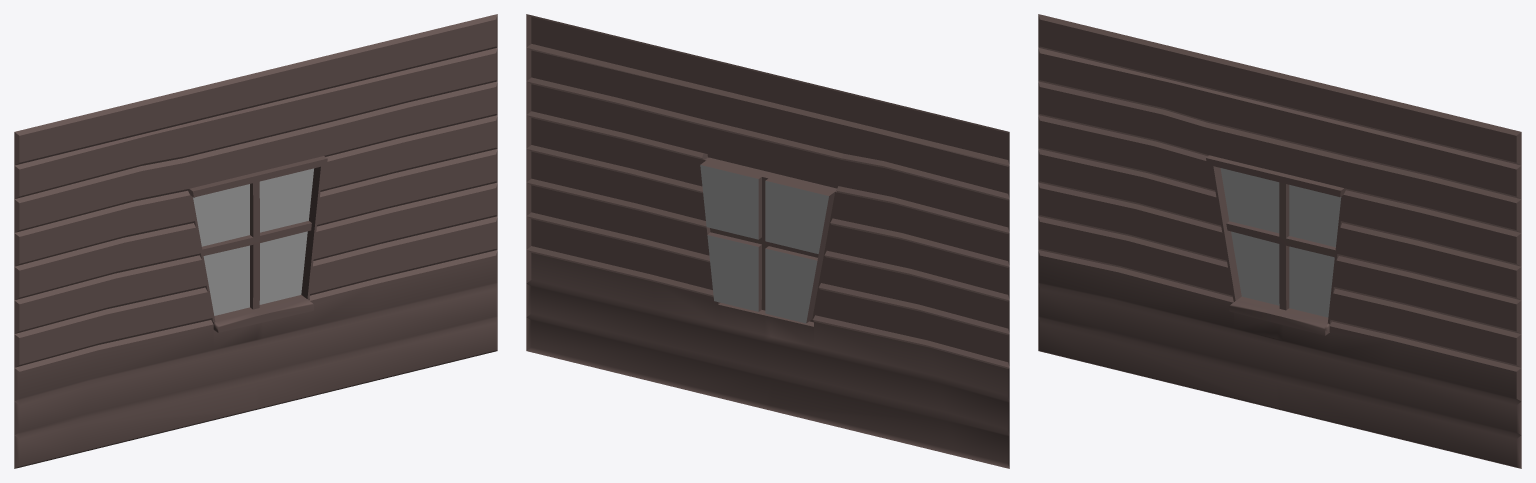
The model's file is Module_Building_Wall.fbx.
3 views of the same model, side by side, from view 1: azimuth 30°, elevation 25°; view 2: azimuth 150°, elevation 25°; view 3: azimuth 330°, elevation 25° (orthographic).
Visible parts, largest first — view 1: Module_Building_Wall; view 2: Module_Building_Wall; view 3: Module_Building_Wall.
Part boxes in pixels (x1,y1,x2,y2): Module_Building_Wall: (14, 14, 497, 468); Module_Building_Wall: (526, 14, 1009, 468); Module_Building_Wall: (1038, 14, 1521, 468).
Size of the model in its own units: 300 by 200 by 11.5.
